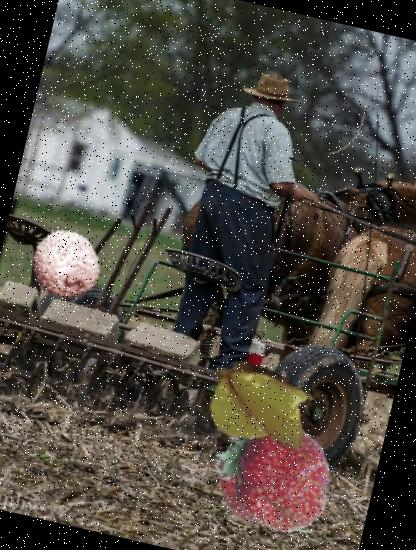Carambula: (193, 334, 330, 471)
Lychee: (23, 220, 109, 306)
Strawberry: (206, 408, 344, 546)
